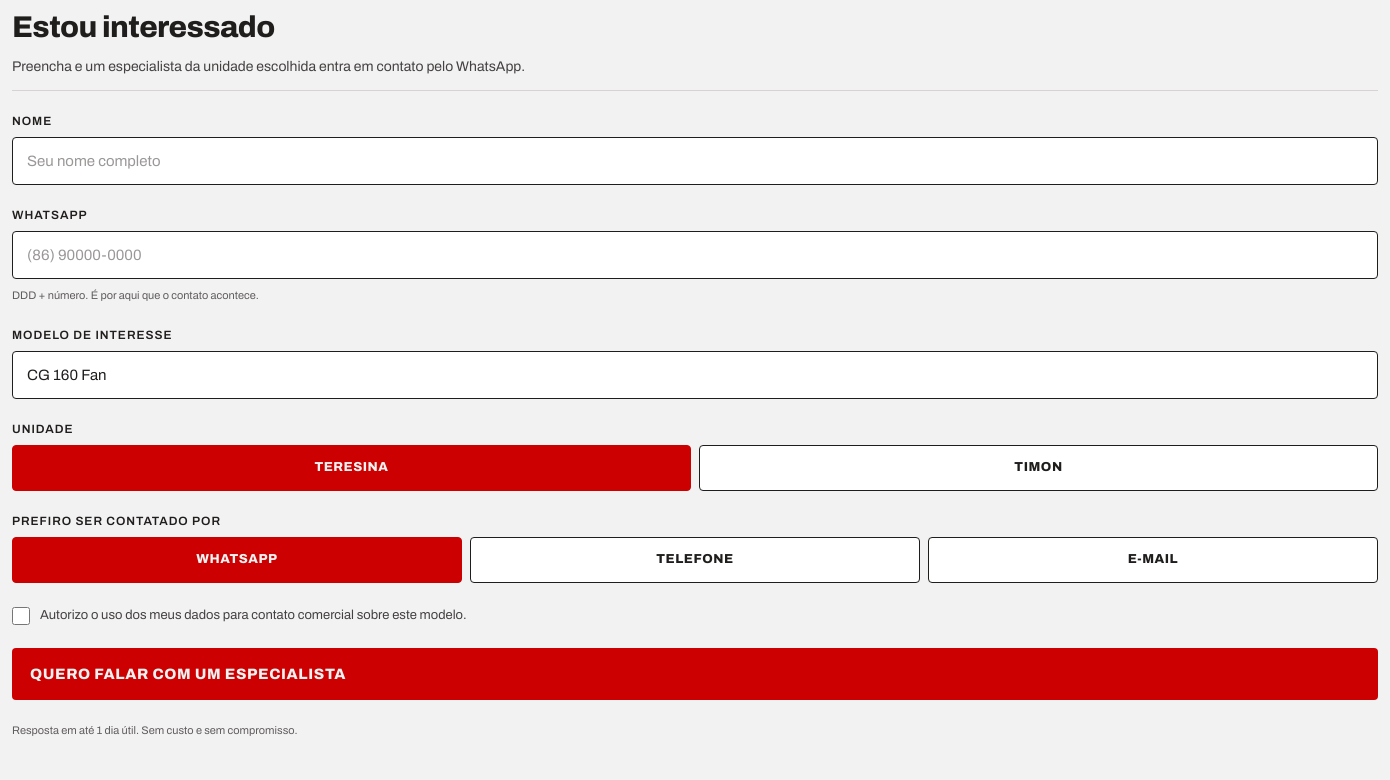
Test: envio › mostra a confirmação com protocolo, modelo e canal
Type "Ricardo Menezes" into the field labelled "Nome" at coordinates (695, 161), box [12, 137, 1378, 185]
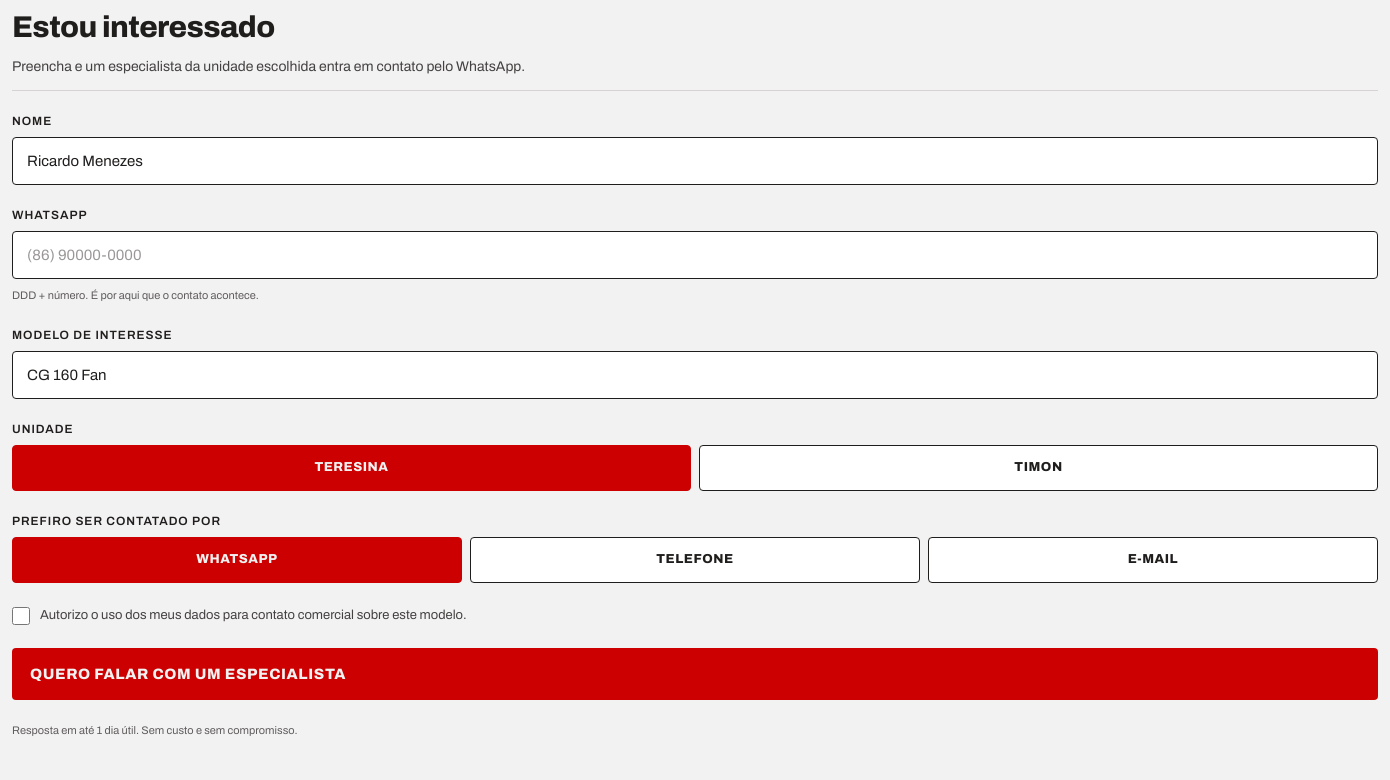
Type "86998124471" into the field labelled "WhatsApp" at coordinates (695, 255), box [12, 231, 1378, 279]
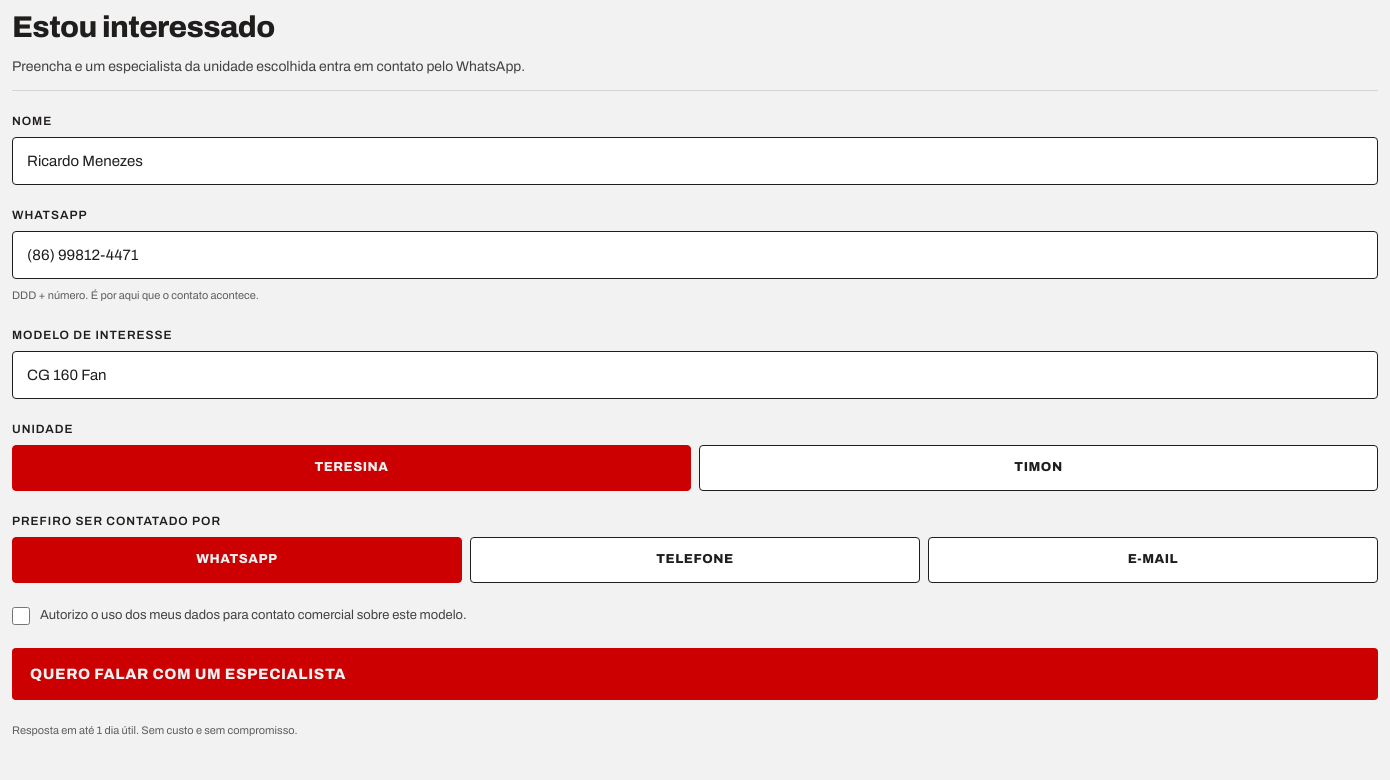
Click the checkbox at coordinates (21, 616), box [12, 607, 30, 625]
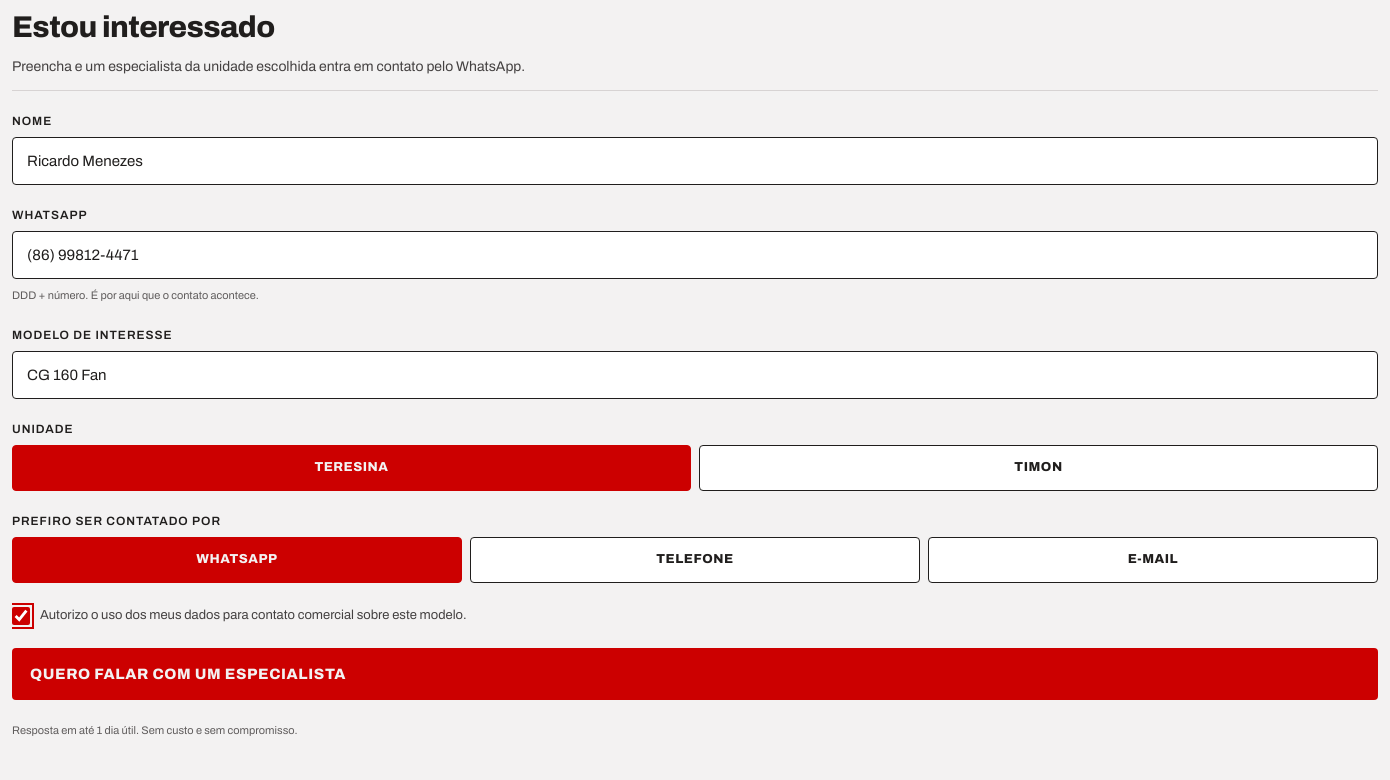
Click the button "Quero falar com um especialista" at coordinates (188, 674), box [12, 648, 1378, 700]
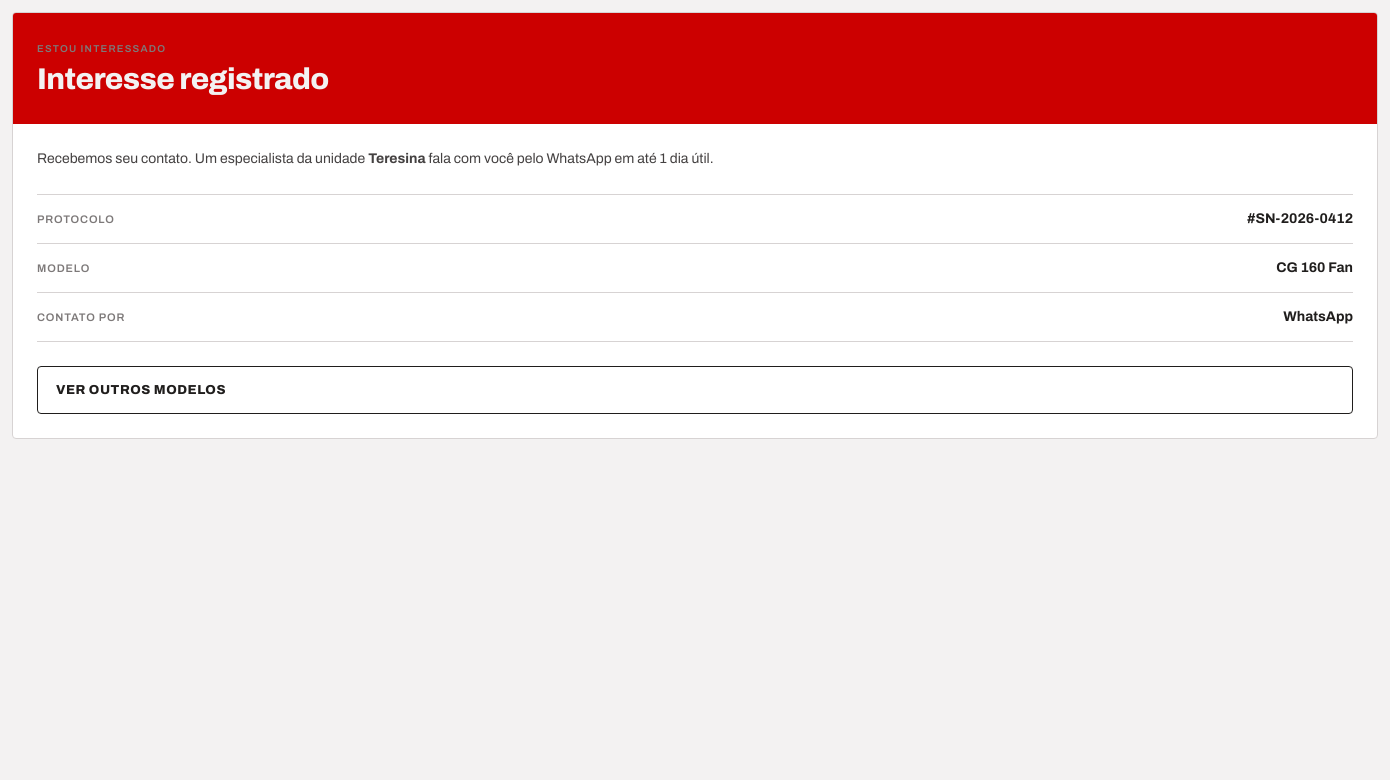
Check: the heading "Interesse registrado" is shown, box [37, 63, 329, 95]
Check: the text "#SN-2026-0412" is shown, box [1247, 209, 1353, 229]
Check: the text "Protocolo" is shown, box [37, 211, 115, 228]
